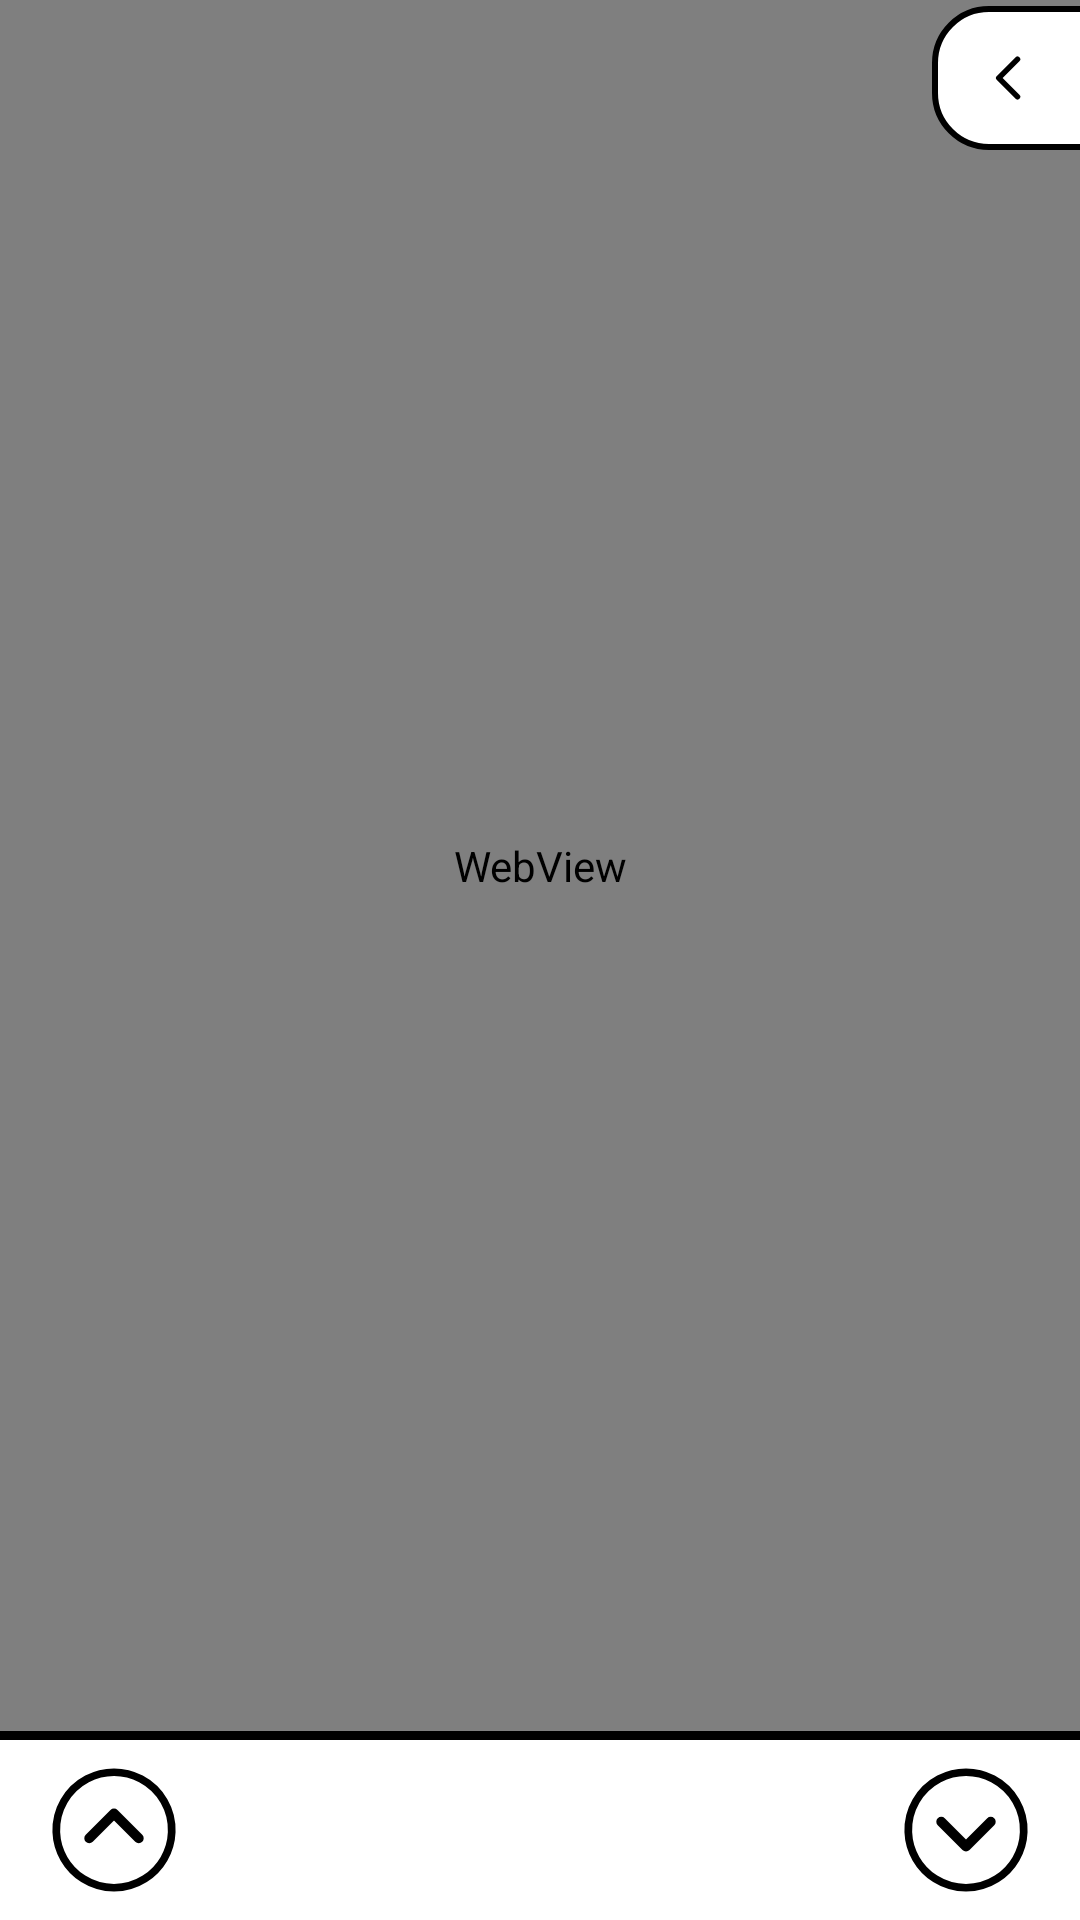

Screen size 1080*1920. Icon name, then its box in pixels as (x1, y1, x2, y2):
Next page: (904, 1768, 1028, 1892)
Previous page: (52, 1768, 176, 1892)
